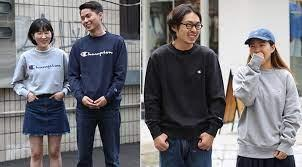pants: (75, 100, 122, 167)
skirt: (21, 92, 76, 139)
sweater: (144, 40, 224, 144), (230, 58, 296, 158), (64, 27, 126, 104), (11, 42, 73, 100)
